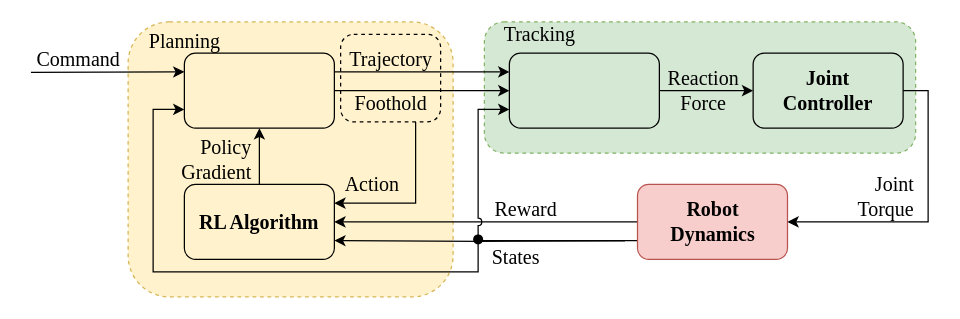
This 960x319 diagram has some shape labels left out. The centre of each missing label's shape, as x and y in pixels:
Model Predictive Controller: (x=583, y=90)
NN Policy: (x=258, y=90)
